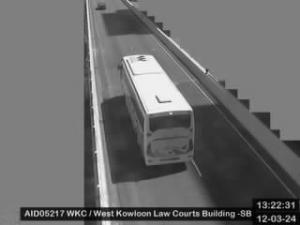bus: (118, 53, 195, 166)
vehicle: (96, 1, 106, 9)
